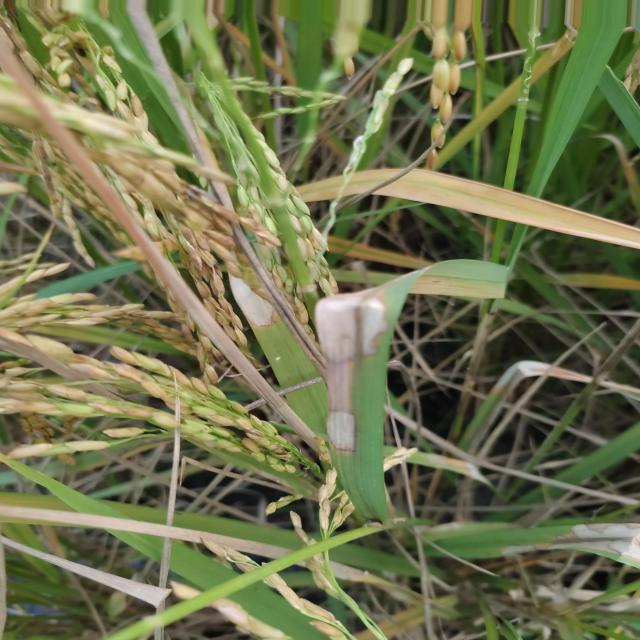Leaf_Blast: (377, 169, 640, 249), (343, 169, 400, 196), (298, 176, 343, 201)
Rice False Smut: (315, 291, 397, 364), (230, 275, 275, 326), (327, 411, 355, 451)
